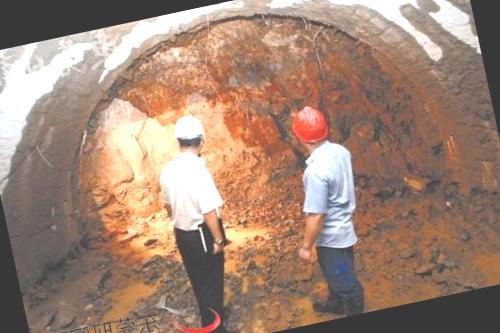person: (260, 97, 388, 324), (140, 114, 249, 333)
